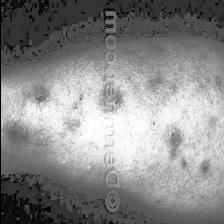Non-Cancerous Skin Condition: (62, 94, 84, 132), (30, 86, 50, 109), (5, 122, 24, 146), (146, 72, 165, 96), (165, 128, 182, 150), (212, 76, 223, 87), (200, 161, 208, 173)
